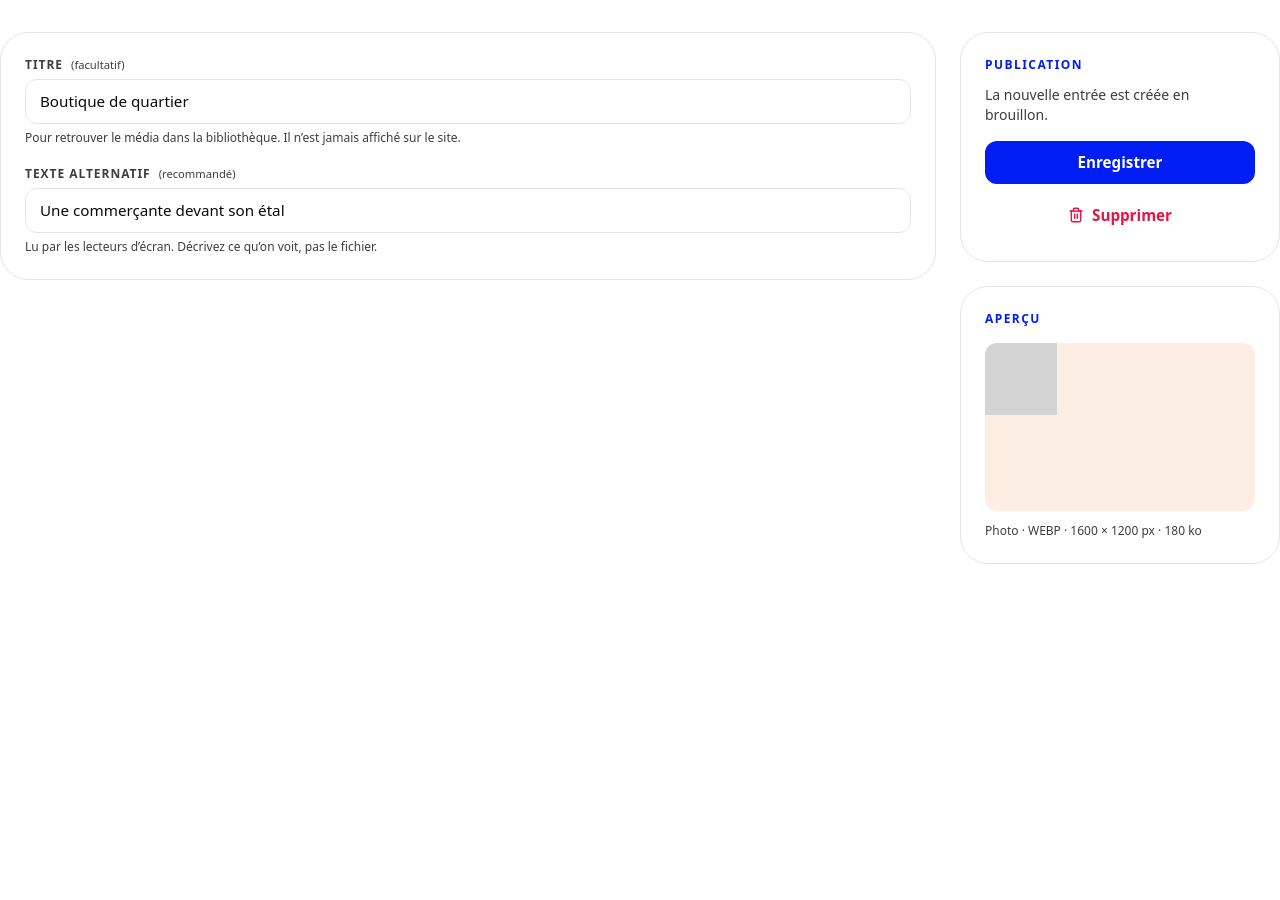
Test: MediaForm › dit pourquoi rien n’a été enregistré, assez fort pour interrompre un lecteur d’écran
The image size is (1280, 900).
What coordinates should you click on to do the following:
click the button "Enregistrer"
I would click on:
 (1120, 162)
Its box is [985,141,1255,184].
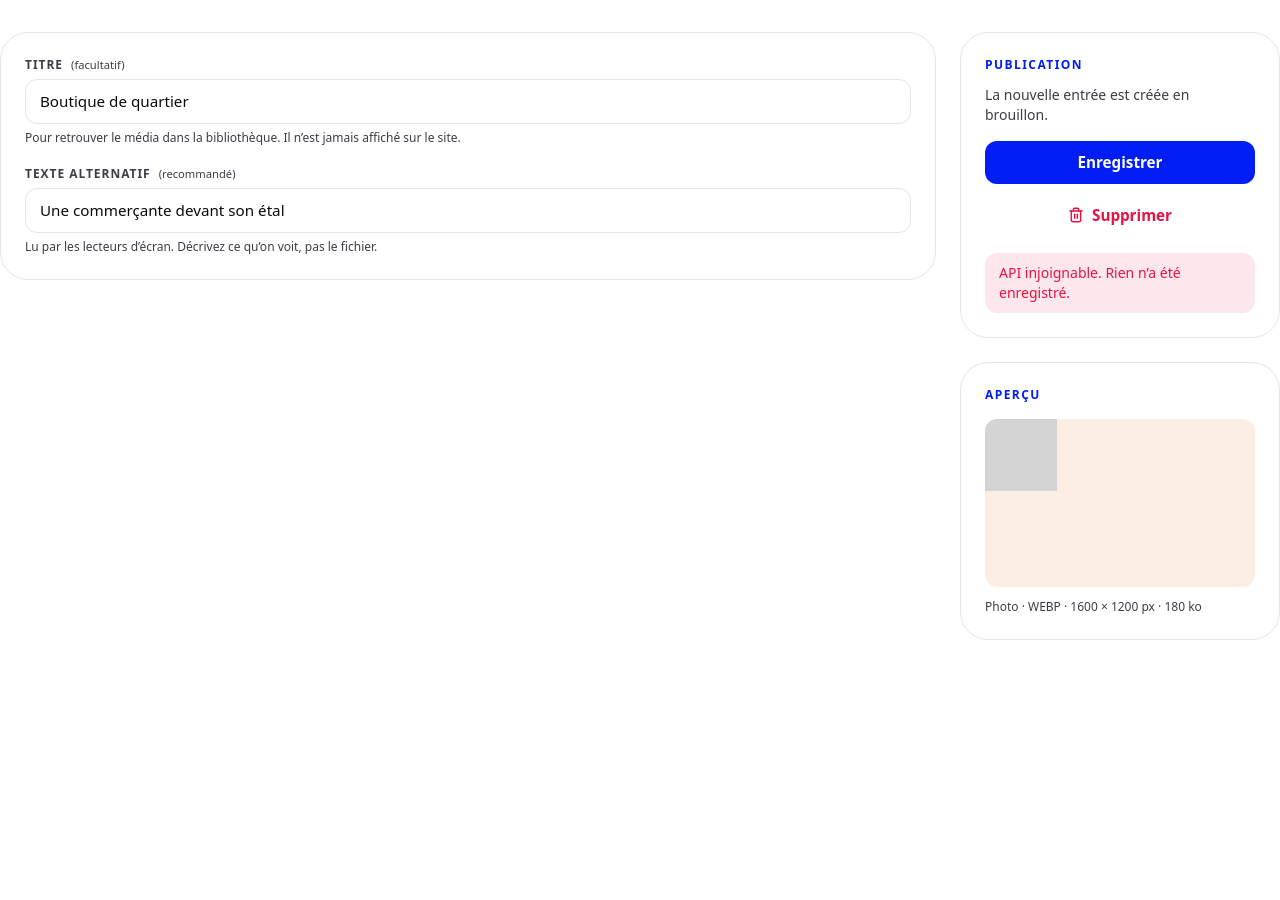
Now the message reads "API injoignable. Rien n’a été enregistré.", box [999,263,1181,302]
